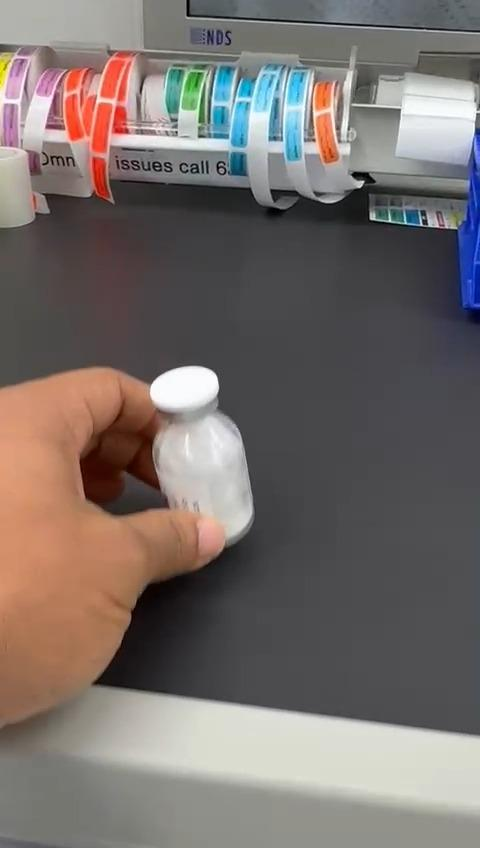augmentin: (151, 366, 253, 544)
